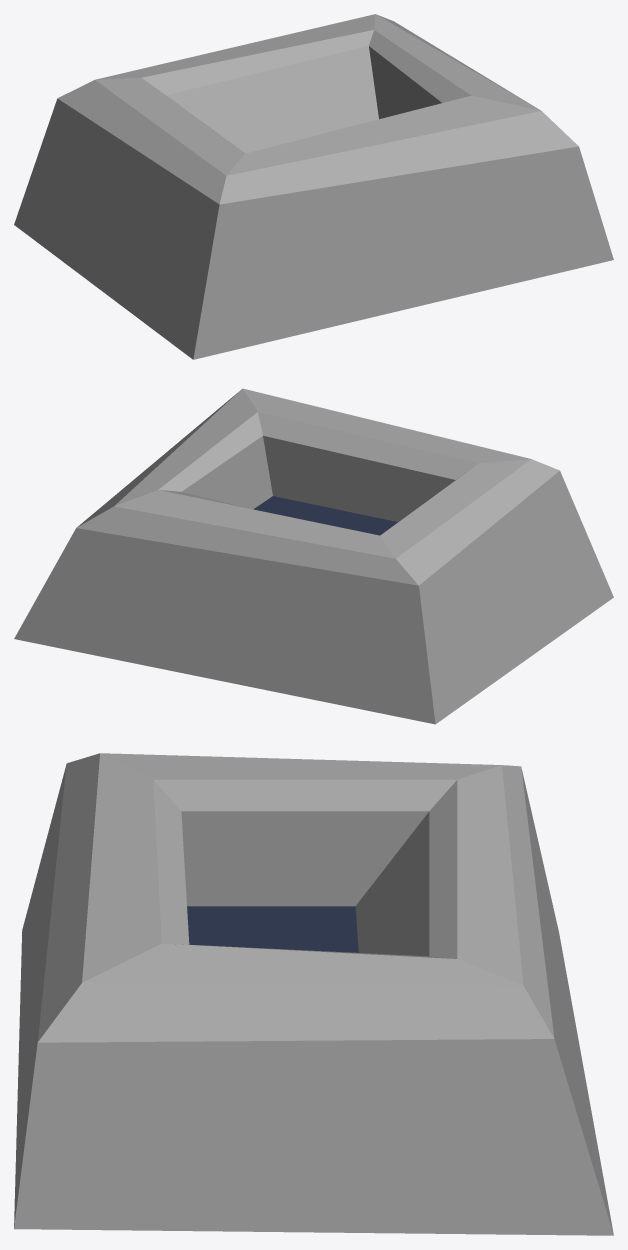
File: DB_ChainTop.fbx
3 views of the same model, one above another, from view 1: azimuth 30°, elevation 25°; view 2: azimuth 150°, elevation 25°; view 3: azimuth 270°, elevation 25° (orthographic). The views are drawn at different scales.
Visible parts, largest first — view 1: pCube43; view 2: pCube43; view 3: pCube43.
Part boxes in pixels (bbox=[...]): pCube43: bbox=[14, 14, 613, 359]; pCube43: bbox=[14, 388, 613, 724]; pCube43: bbox=[14, 753, 613, 1235].
Bounding box in the file's own units: 239 × 80.36 × 199.
